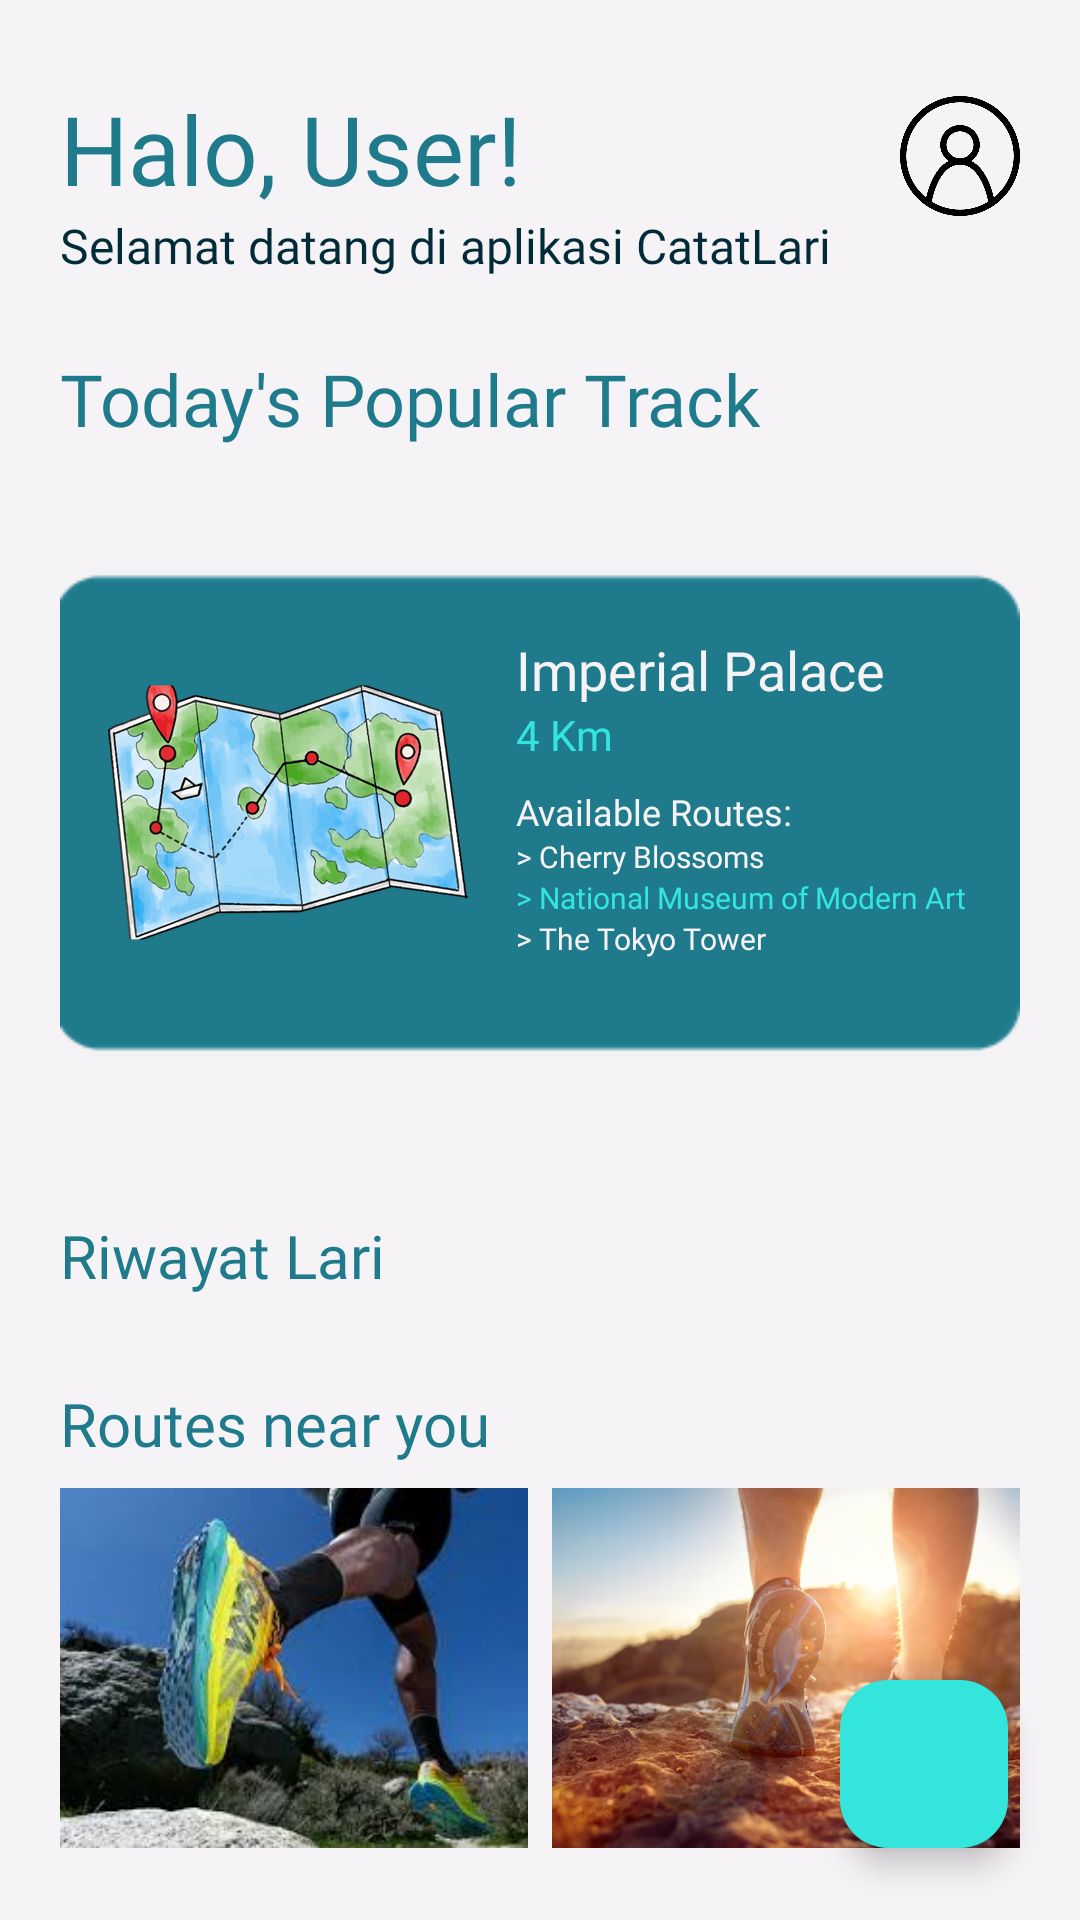

Icon bounding boxes for this 1080w x 1920h phone screenshot, format detection(x1, y1, x2, y2):
profile: detection(900, 96, 1020, 216)
